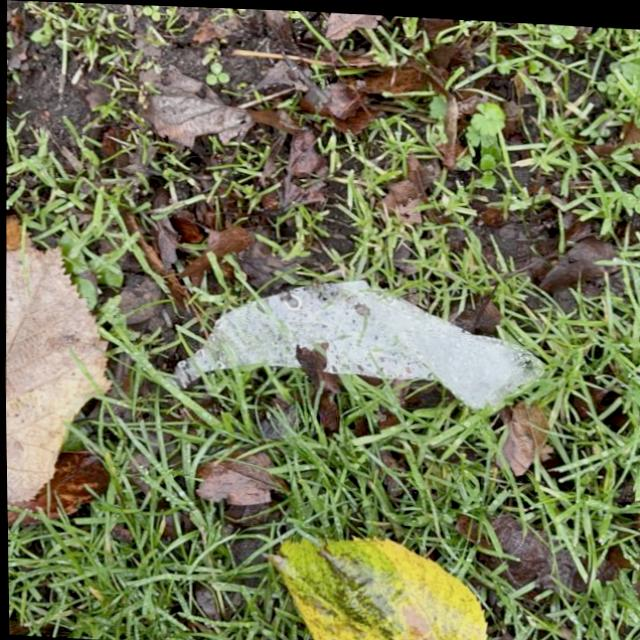Paper: (165, 262, 547, 415)
